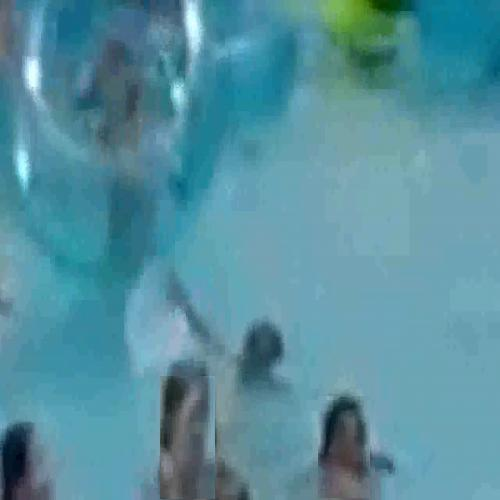drowning: (169, 251, 310, 372)
swimming: (71, 49, 168, 198), (160, 376, 216, 500), (0, 411, 71, 499), (318, 396, 371, 499)
